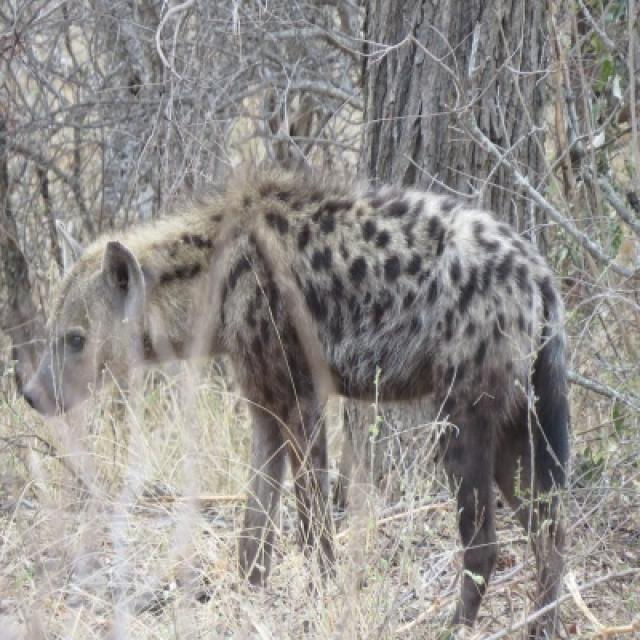hyena: (8, 170, 568, 624)
